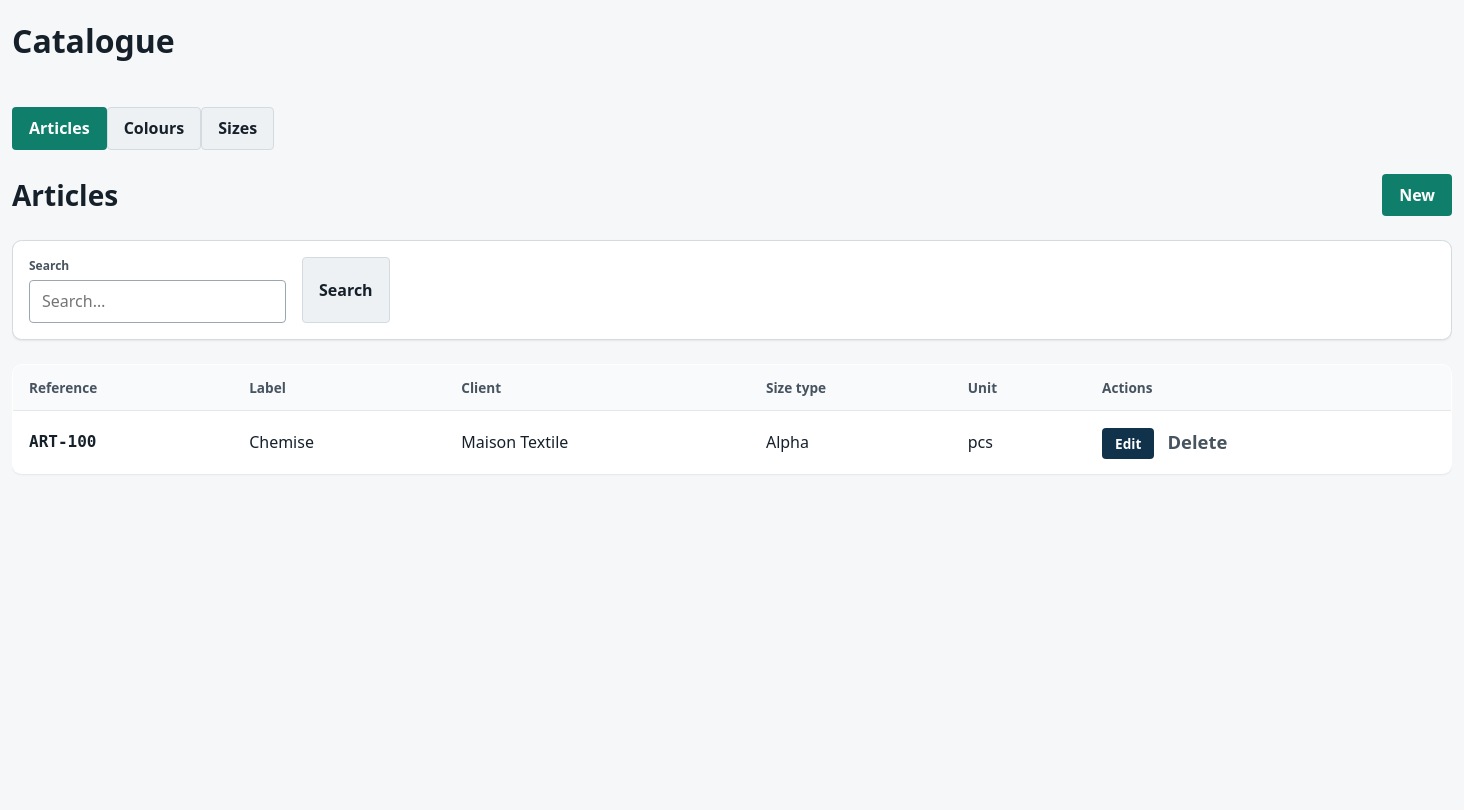
Scenario: CataloguePage › Show a validation error in the UI
Expected: the text "ART-100" is shown, top-left (29, 432), bottom-right (96, 451)
Click the button "New" at x=1417, y=195, box top-left (1382, 174), bottom-right (1452, 216)
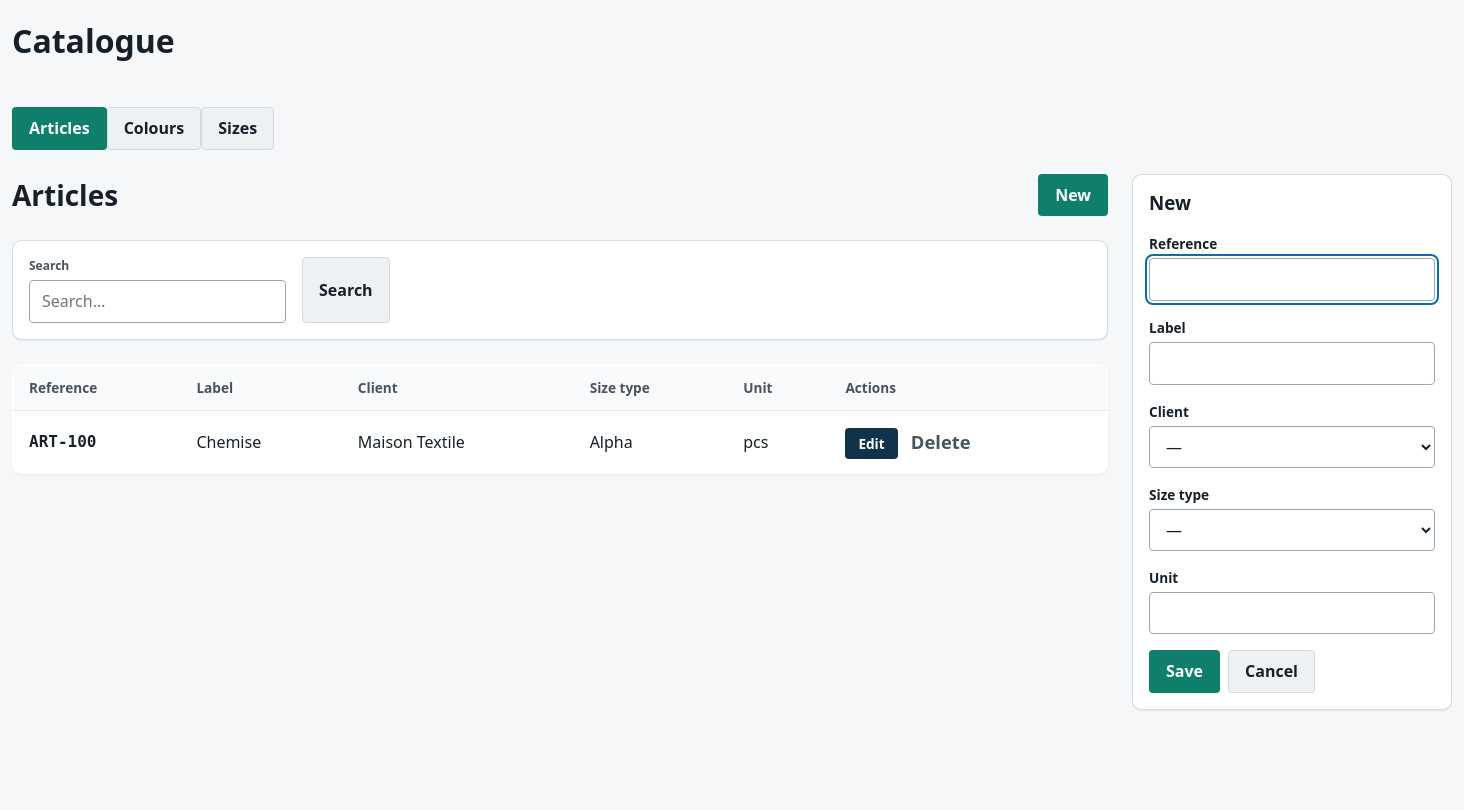
Type "ART-1" into the field labelled "Reference" at x=1292, y=279, box top-left (1149, 258), bottom-right (1435, 301)
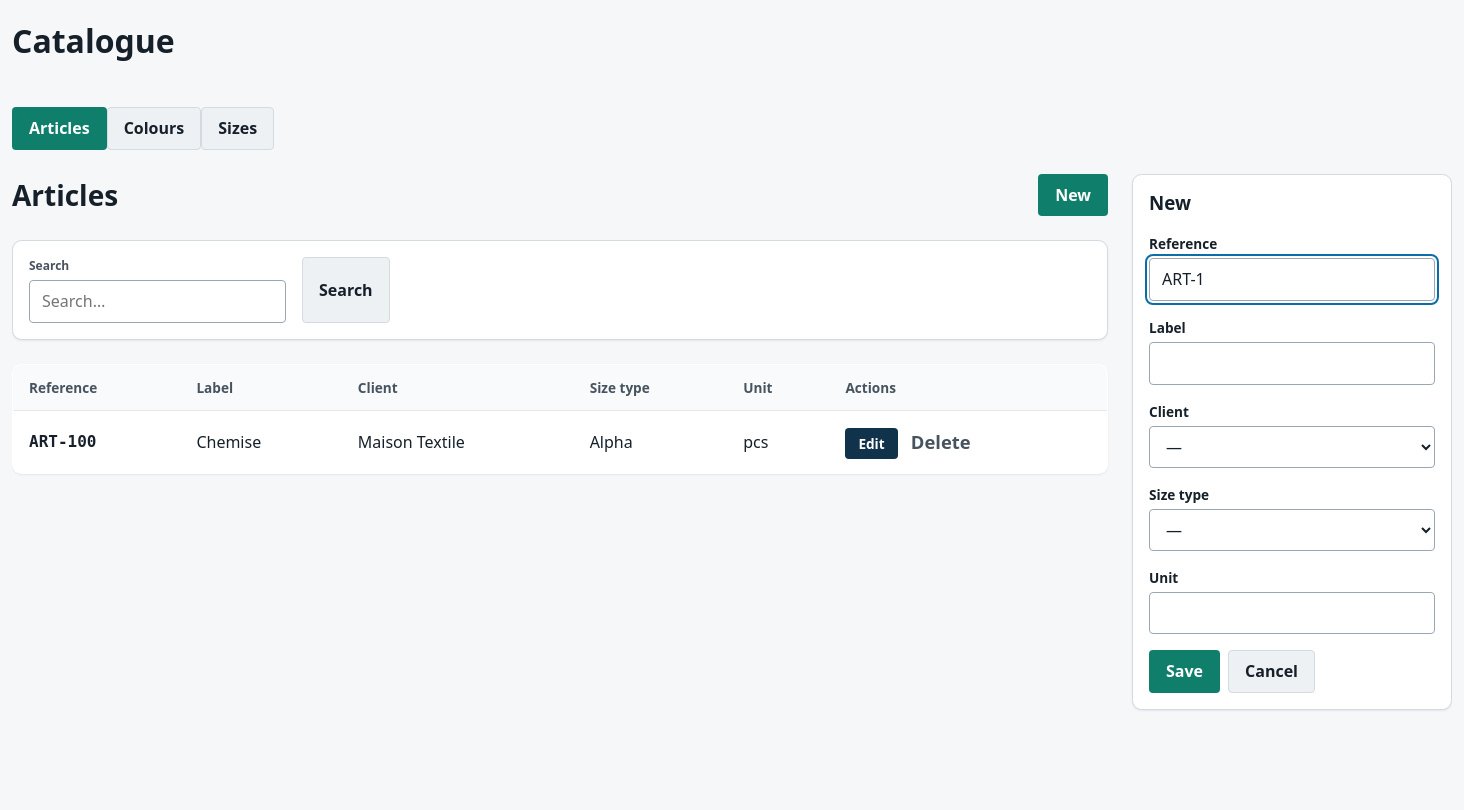
Type "Shirt" into the field labelled "Label" at x=1292, y=363, box top-left (1149, 342), bottom-right (1435, 384)
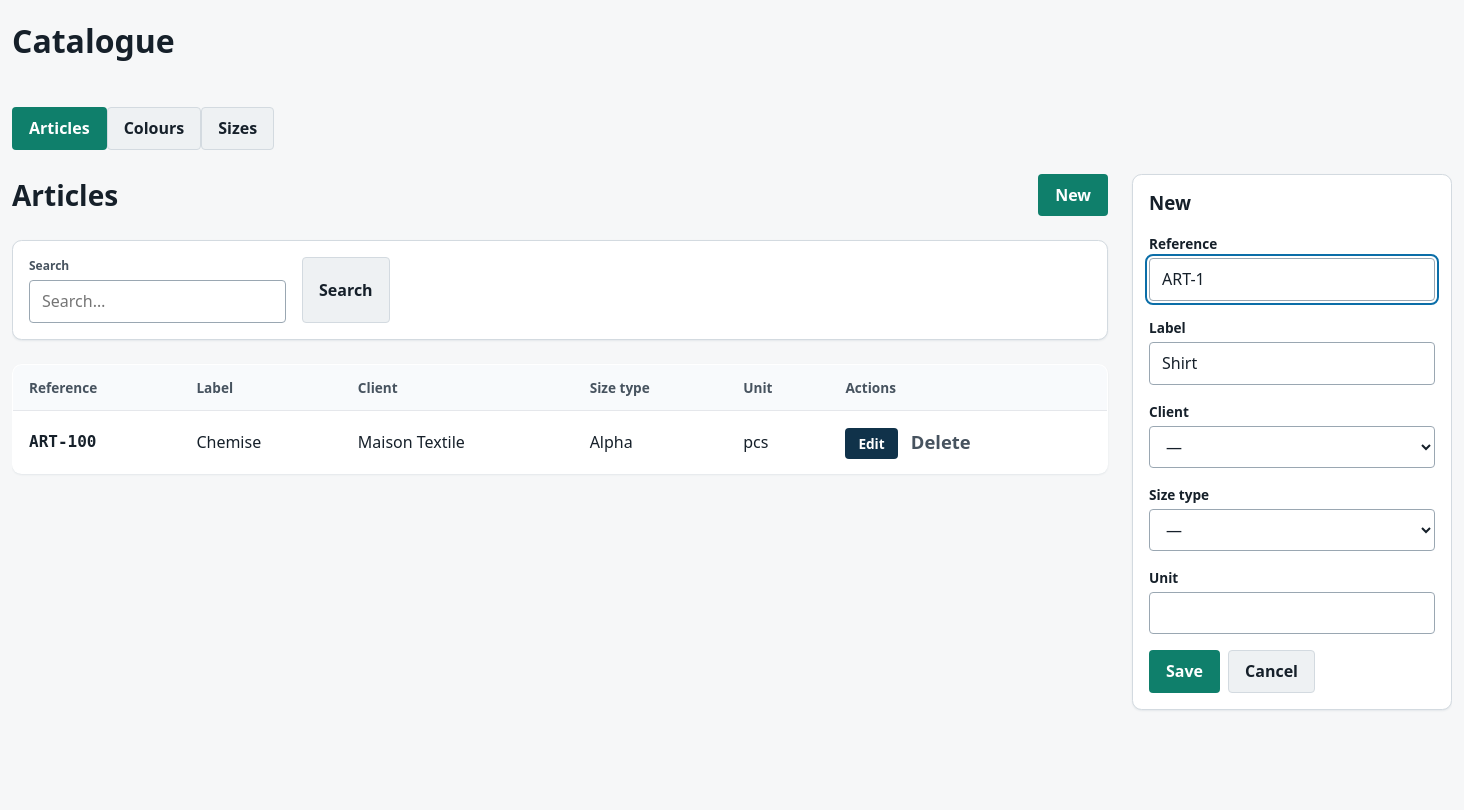
Select "Maison Textile" in the dropdown labelled "Client" at x=1292, y=447, box top-left (1149, 426), bottom-right (1435, 468)
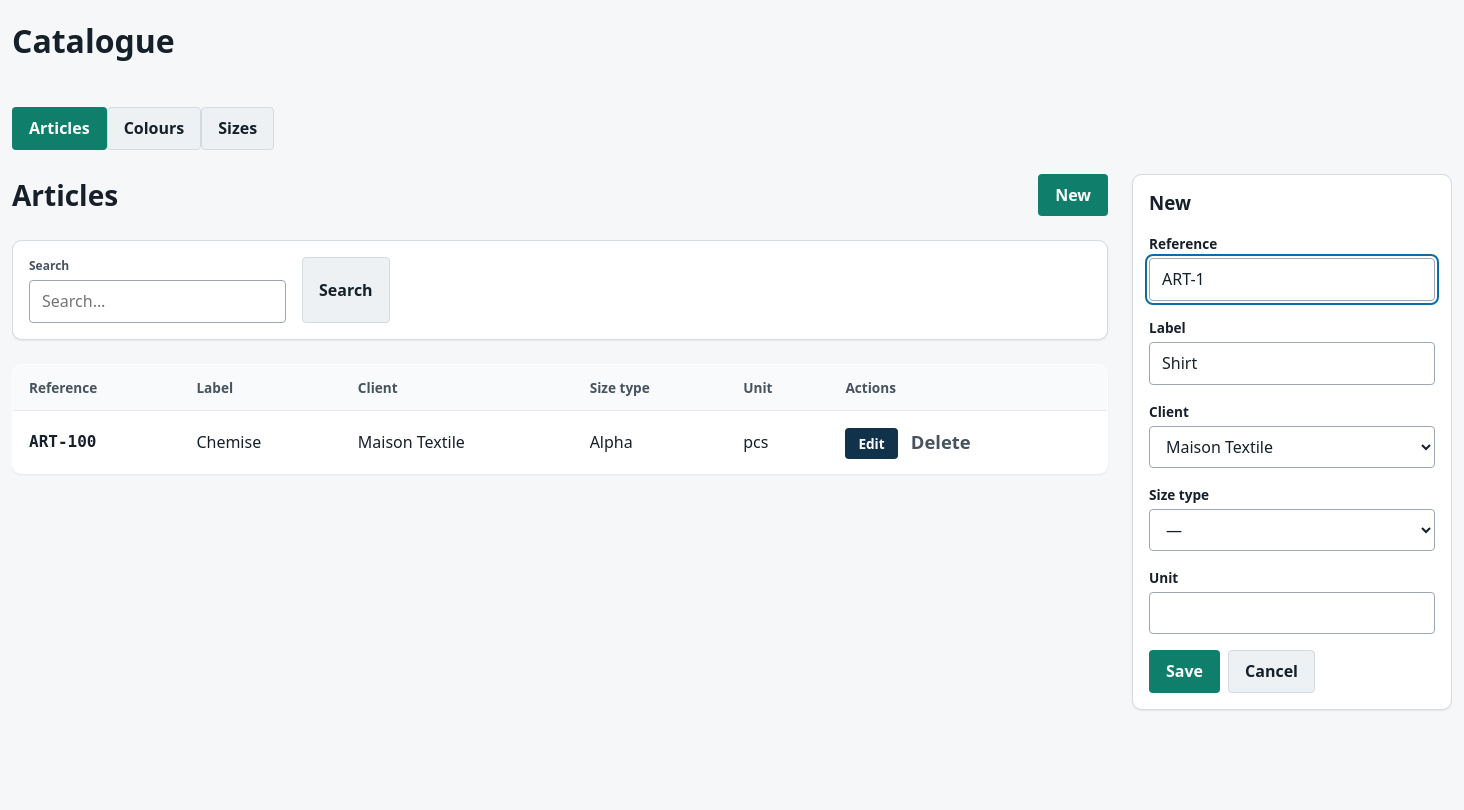
Type "pcs" into the field labelled "Unit" at x=1292, y=613, box top-left (1149, 592), bottom-right (1435, 634)
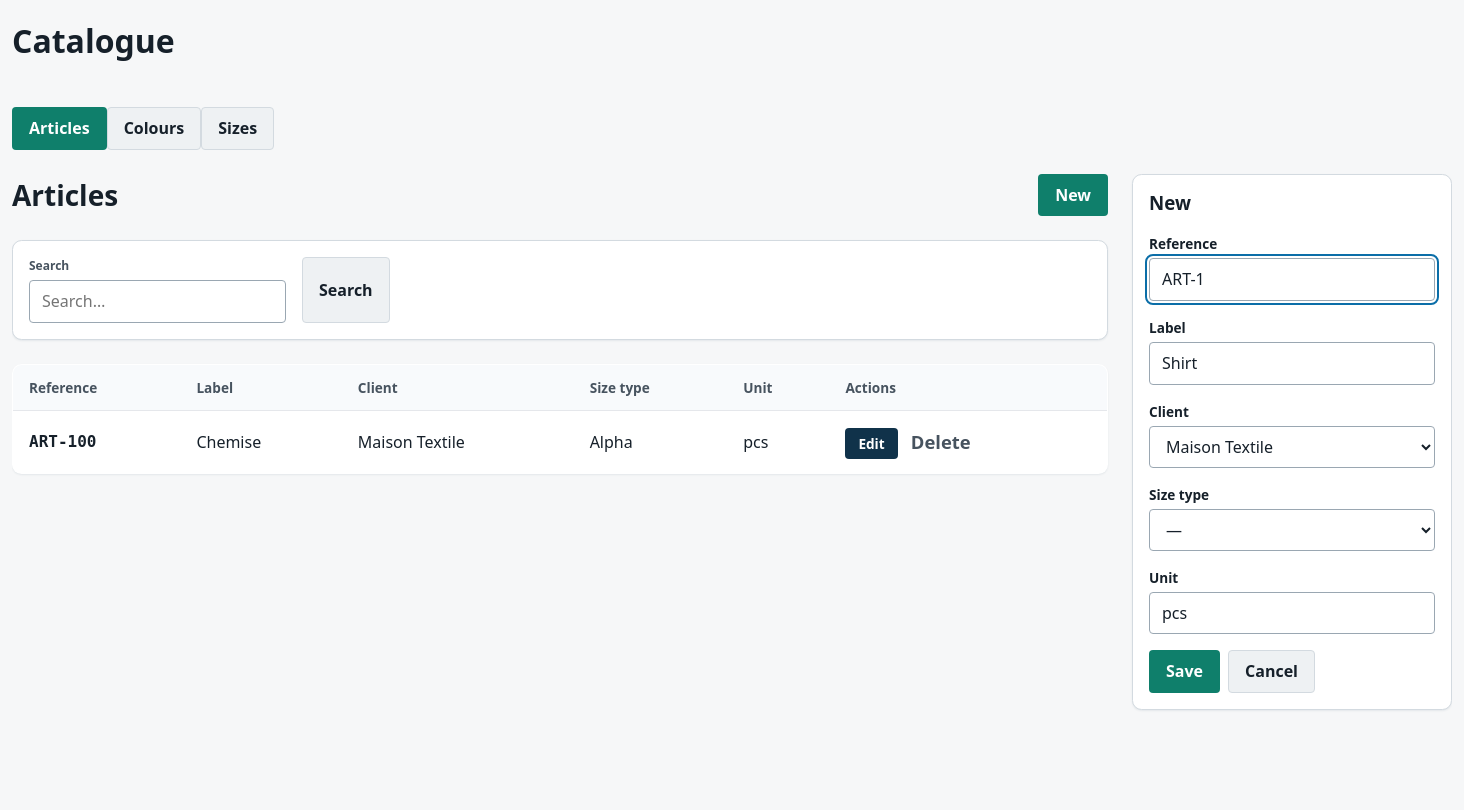
Click the button "Save" at x=1184, y=672, box top-left (1149, 650), bottom-right (1220, 693)
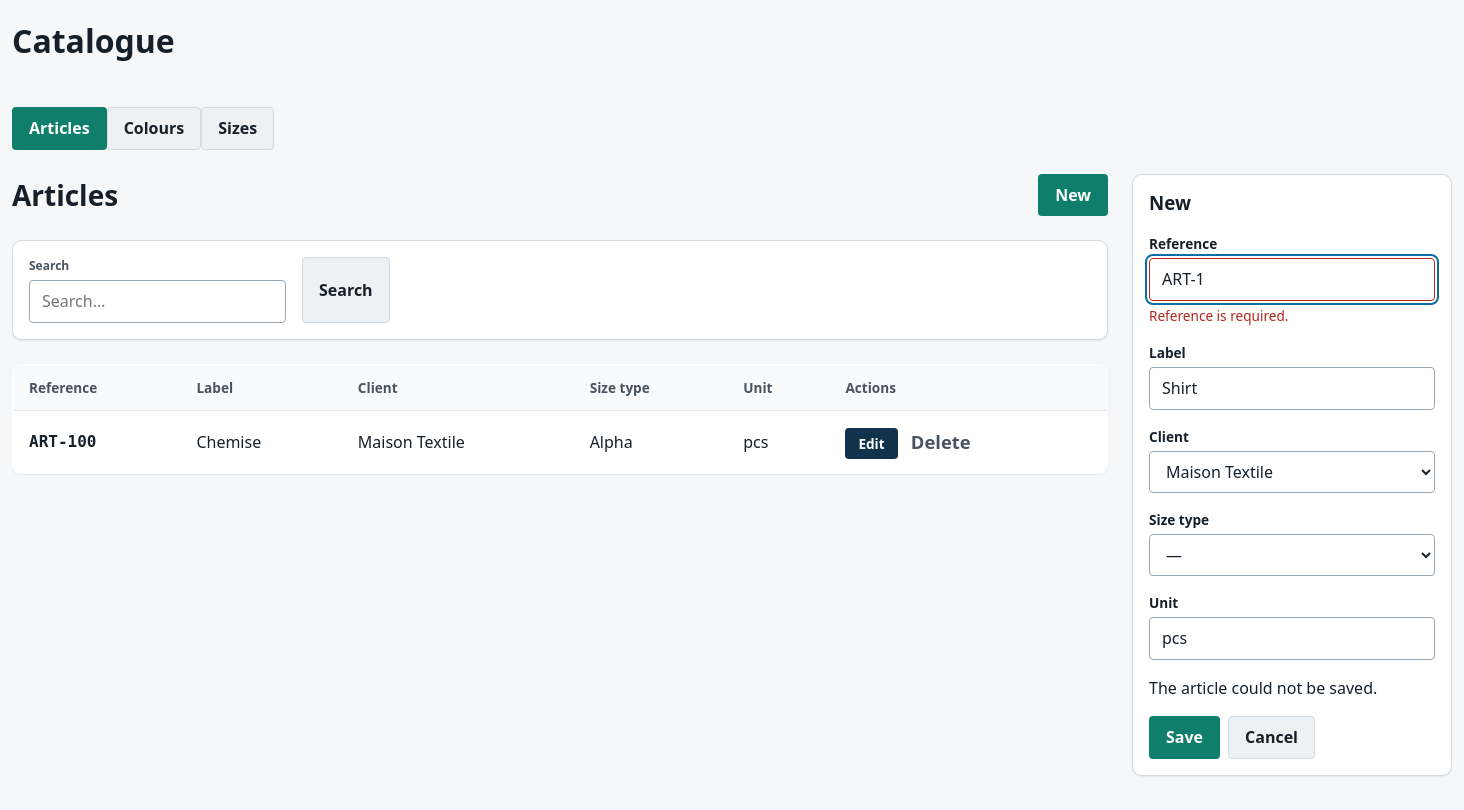
Result: the text with test id "form-error" reads "The article could not be saved." at top-left (1149, 676), bottom-right (1377, 698)
Result: the text "Reference is required." is shown at top-left (1149, 306), bottom-right (1288, 325)
